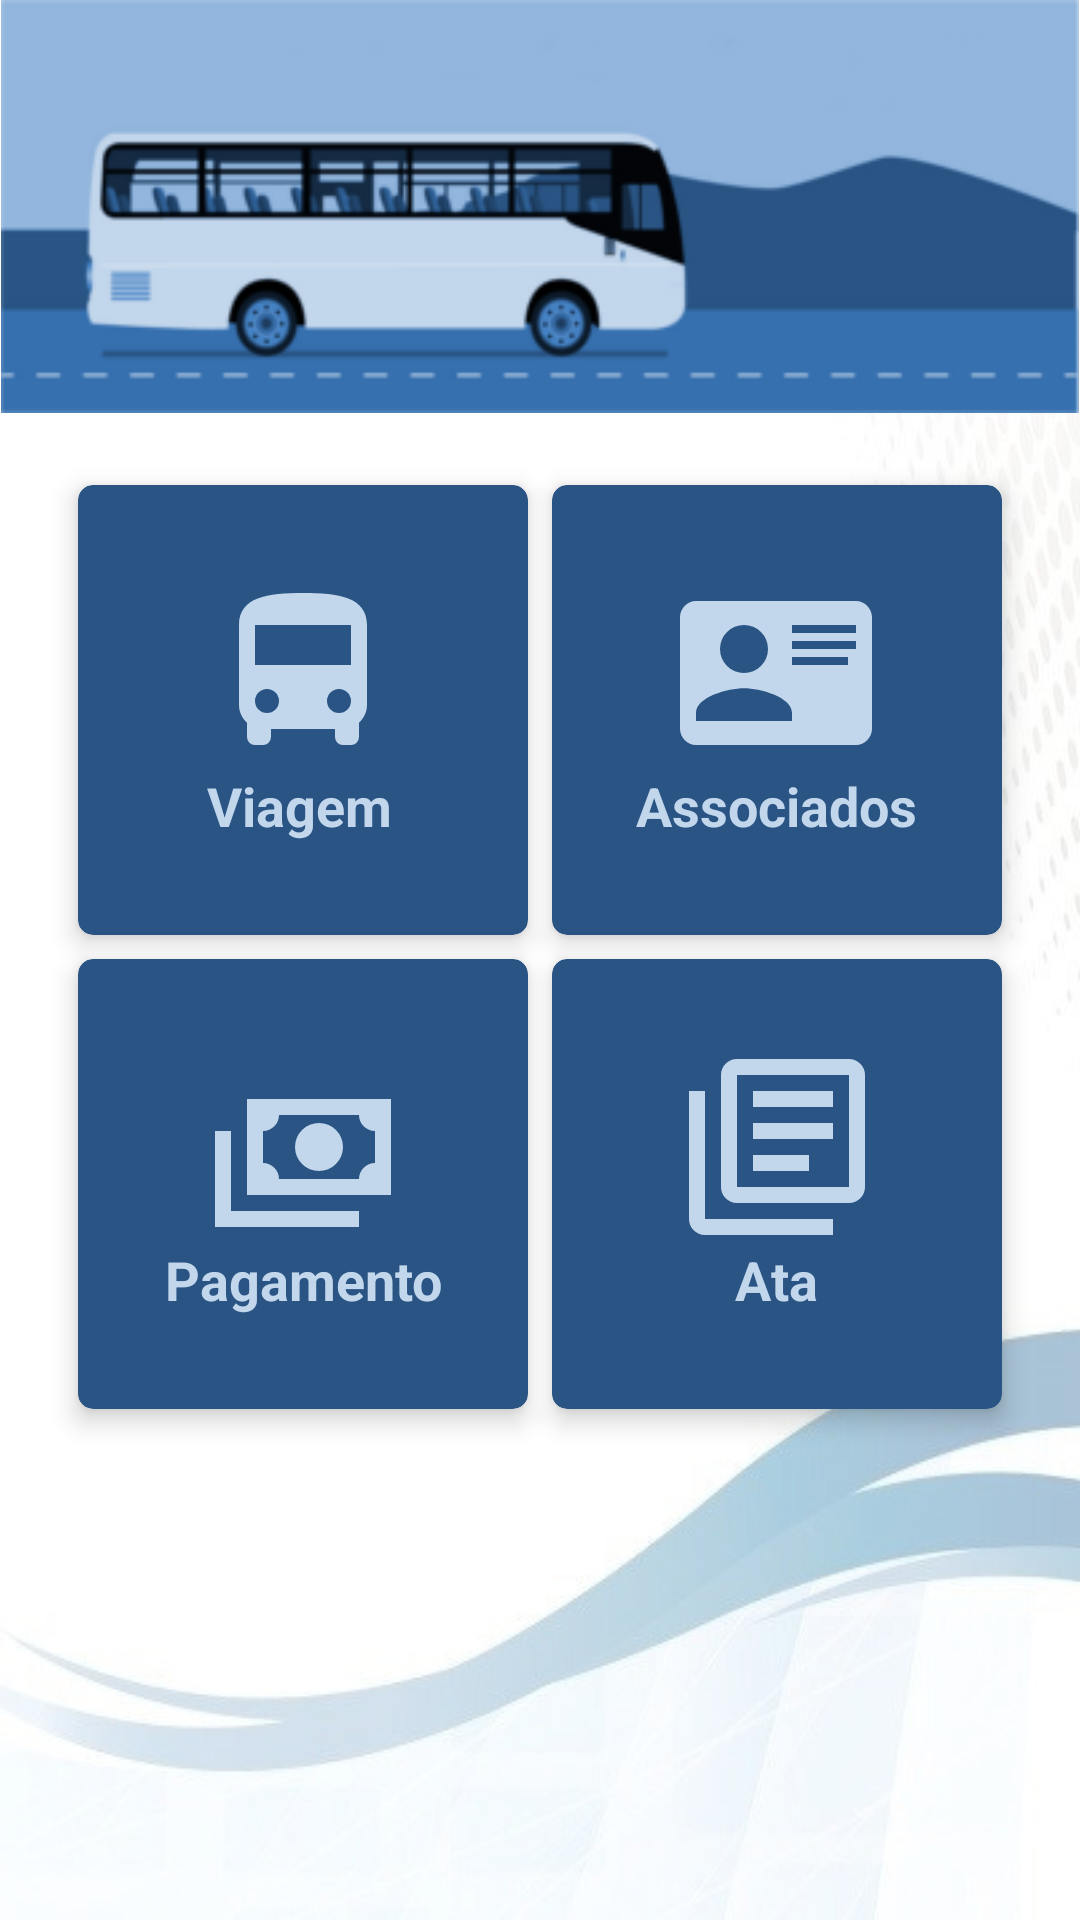

Locate icon controls on the screen. Image size 1080w x 1920h, boxes as [x1=x1, y1=y1, x2=x2, y2=y2].
bus: [x1=239, y1=593, x2=367, y2=745]
estudantes: [x1=680, y1=601, x2=872, y2=745]
